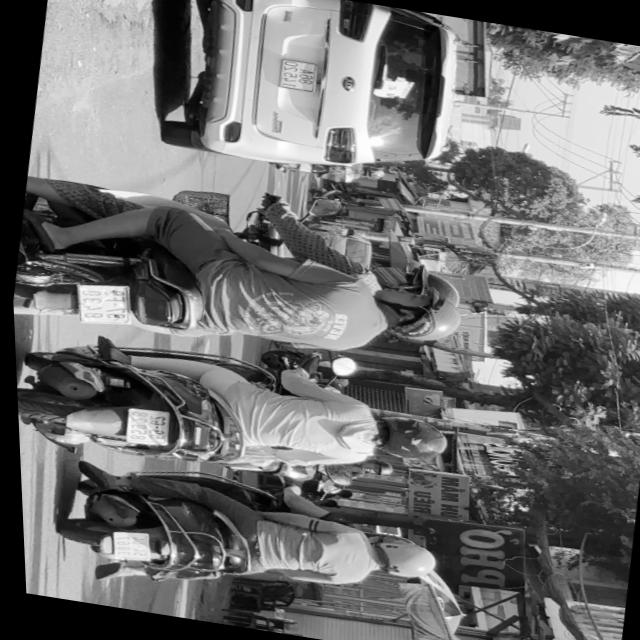helmet: (368, 289, 463, 350), (357, 257, 466, 310), (365, 412, 447, 467), (364, 536, 434, 584)
licenseplate: (6, 158, 482, 390), (11, 318, 458, 512), (41, 450, 445, 633)
nohelmet: (68, 280, 130, 330), (119, 408, 168, 448), (104, 528, 147, 564)
